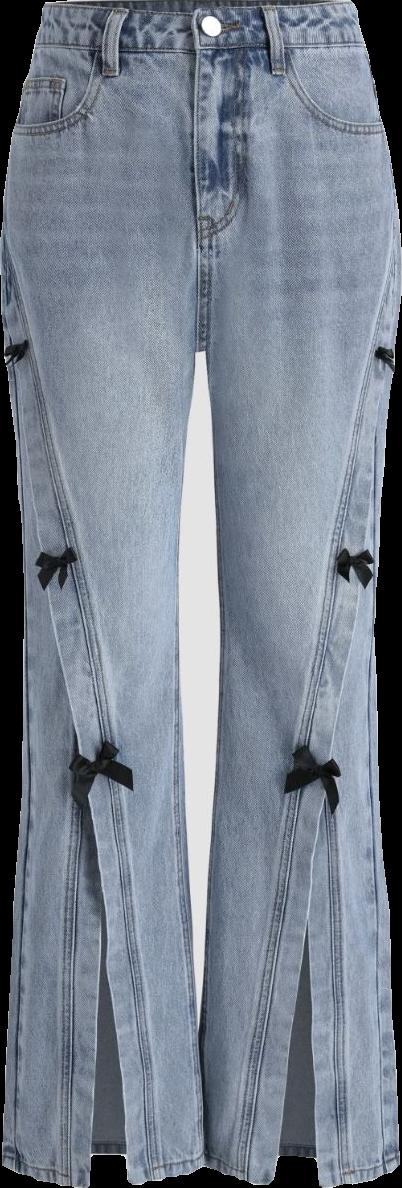Hemline: (15, 494, 211, 1184), (202, 599, 385, 1186), (0, 910, 114, 1187), (297, 987, 401, 1187)
Pantleg: (0, 0, 210, 1187), (204, 0, 401, 1187)
Waistline: (39, 0, 357, 21)
